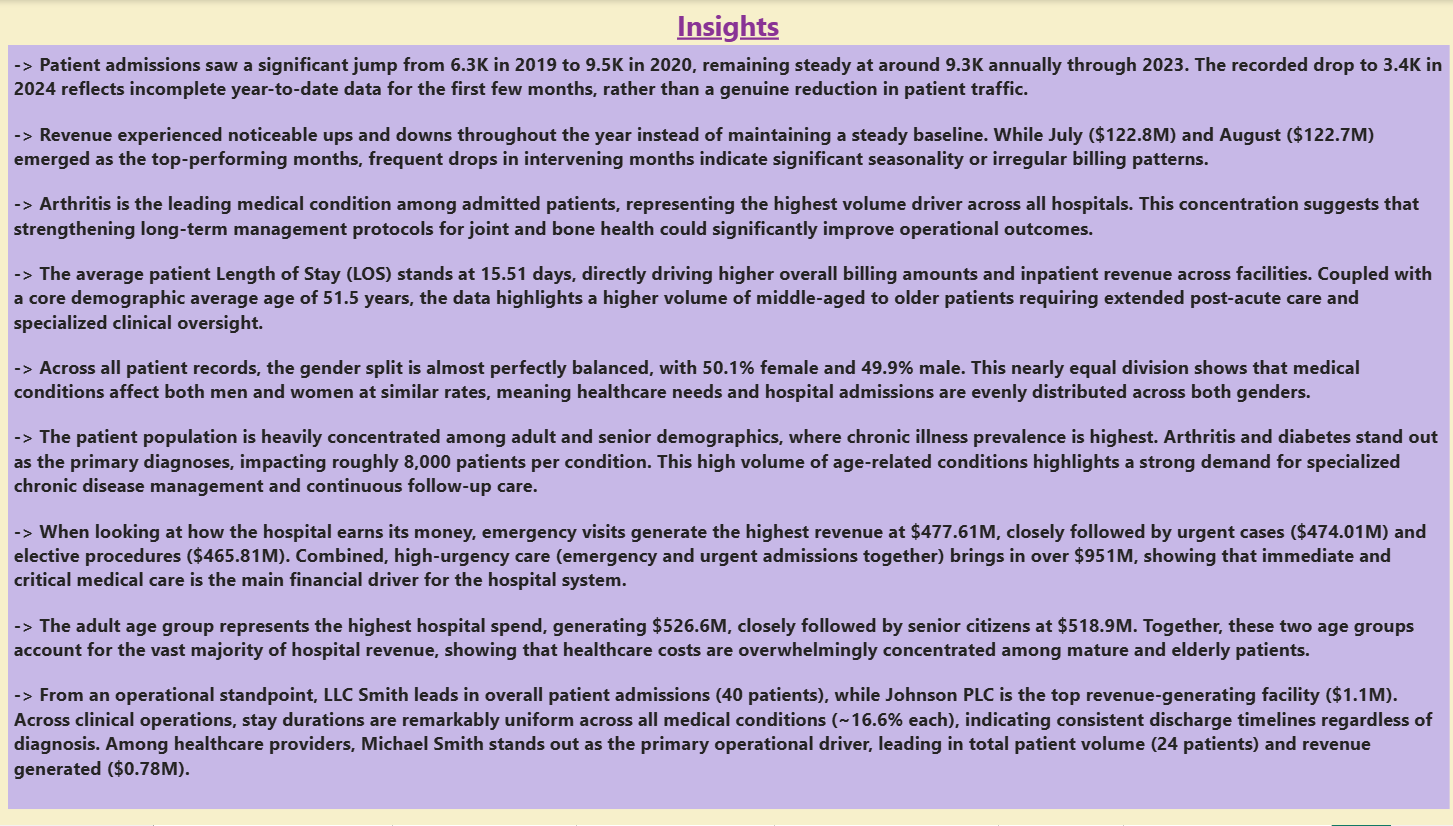

This screenshot's page, from the dashboard's own definition file:
{"tool":"powerbi","page":{"name":"Insights","canvas":[1280,720],"ordinal":4},"visuals":[{"type":"textbox","box":[10.2,39.4,1256.7,666.2],"z":0},{"type":"textbox","box":[568.6,0,138.5,49.6],"z":1000}]}

Visuals, with their boxes in screenshot pixels (x1, y1, x2, y2), scaled from the page's 1280x720 canvas onto the 1453x826 screenshot:
textbox: rect(12, 45, 1438, 809)
textbox: rect(645, 0, 803, 57)
